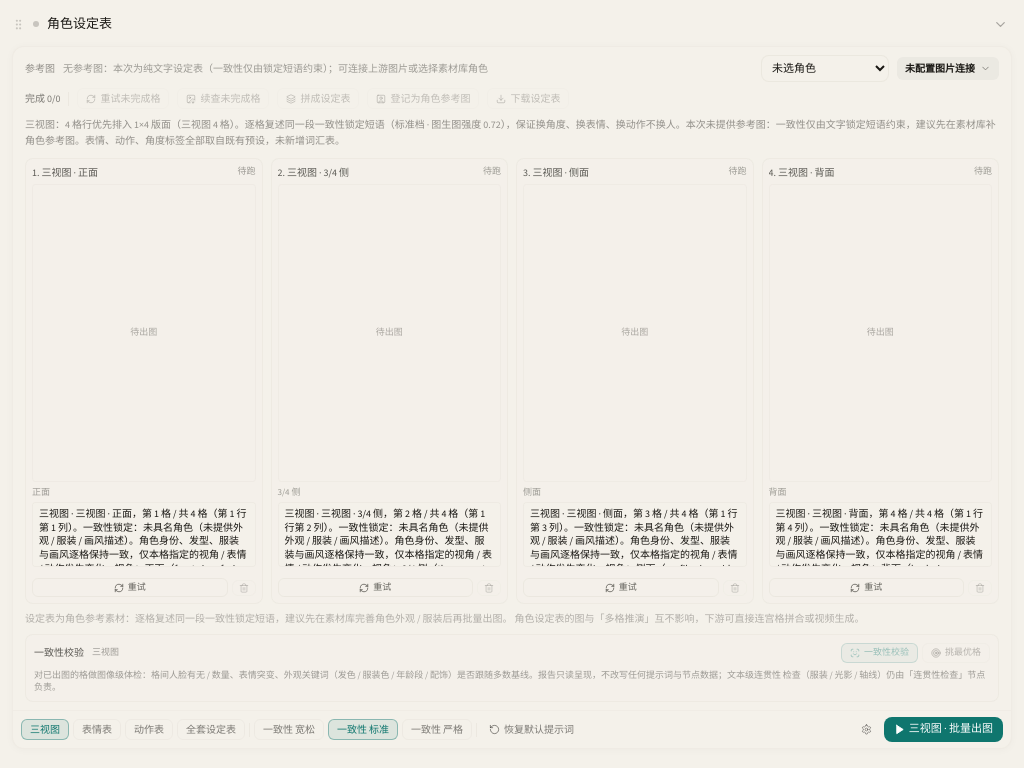
Scenario: CharacterSheetWorkspace：版面 / 一致性档位写回 › 切版面写入固定字段组并清空上一版面的计划稿
Click the button "表情表" at (97, 730), box 73,719 -> 121,740
(page scrolled)
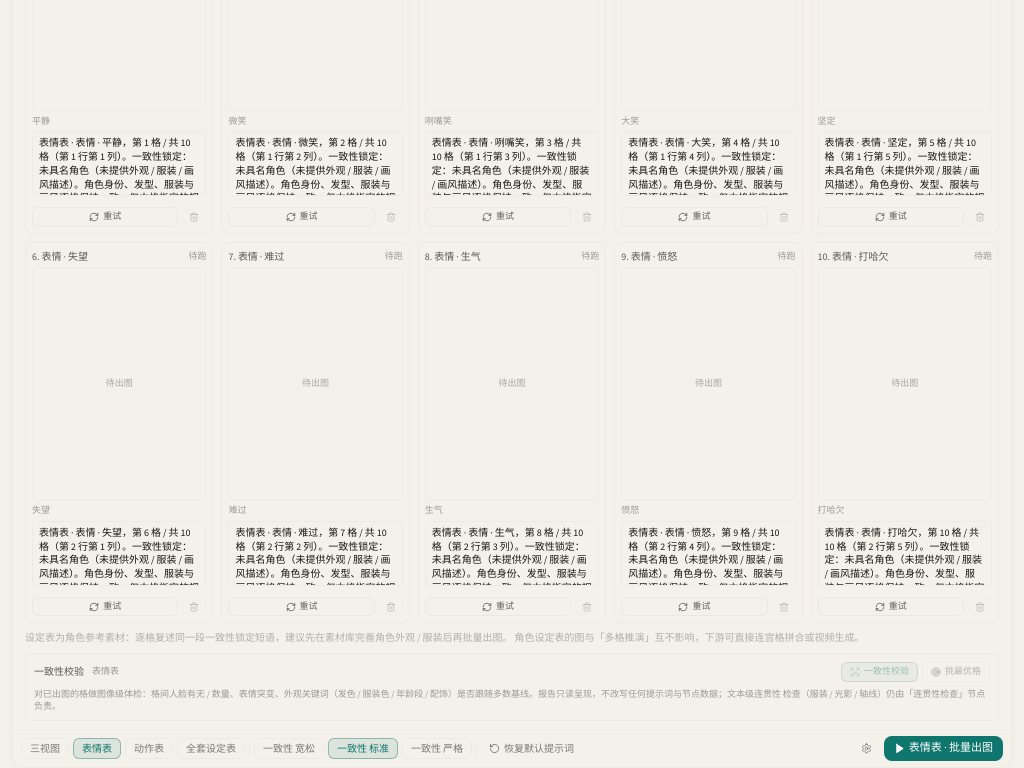
Expected: the number of text boxes titled "编辑后该格按此文本出图（中英同源）" is 10
